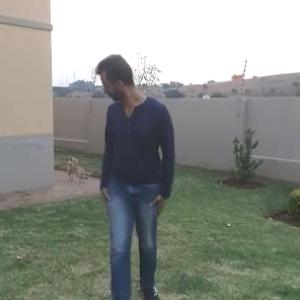follow: (91, 50, 176, 299)
